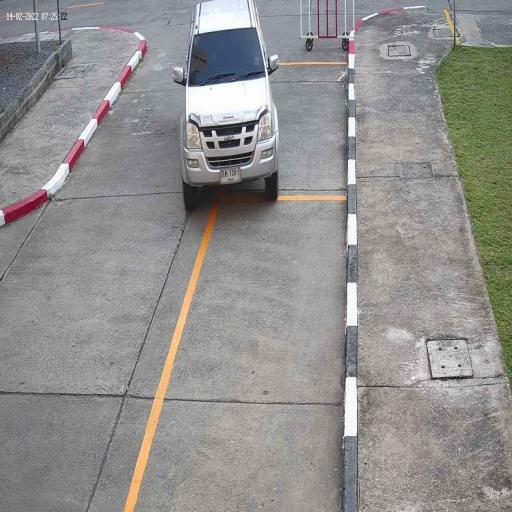car: (180, 0, 280, 209)
